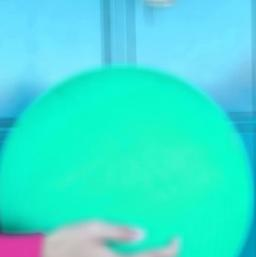algae: (0, 63, 254, 257)
